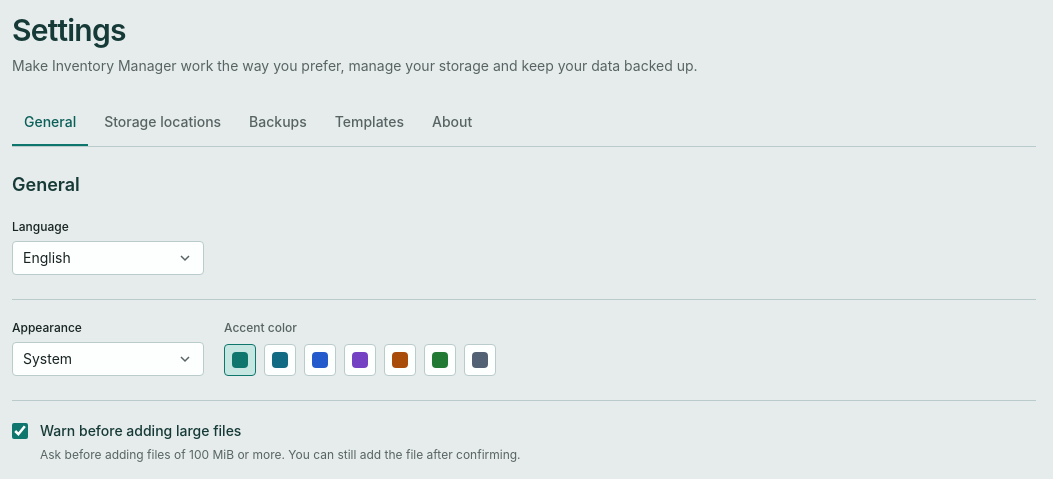
it: supports returning to system language without writing a resolved language back to the server
This screenshot has width=1053, height=479.
Click the dropdown named "Language". click: (108, 258)
box: left=12, top=241, right=204, bottom=275
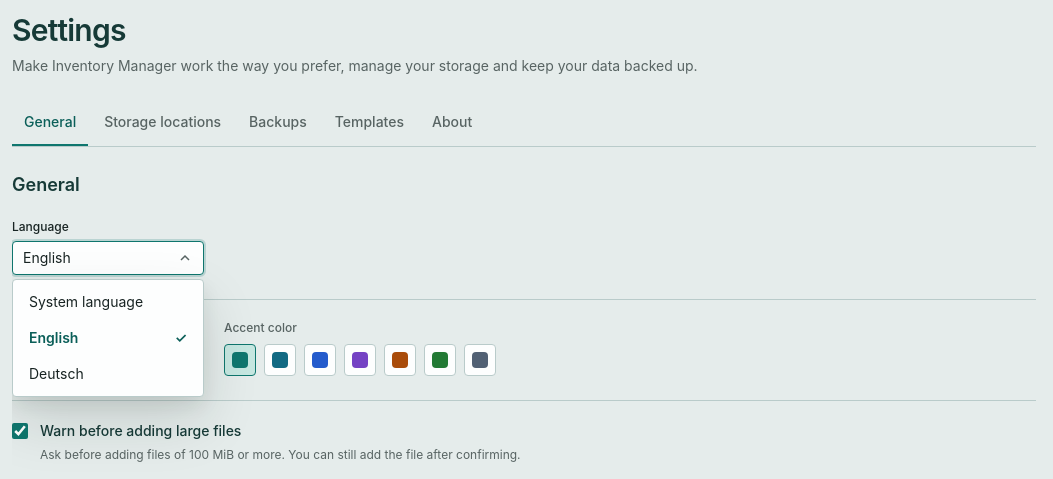
Click the option "System language". click: (108, 302)
box: left=17, top=284, right=199, bottom=320
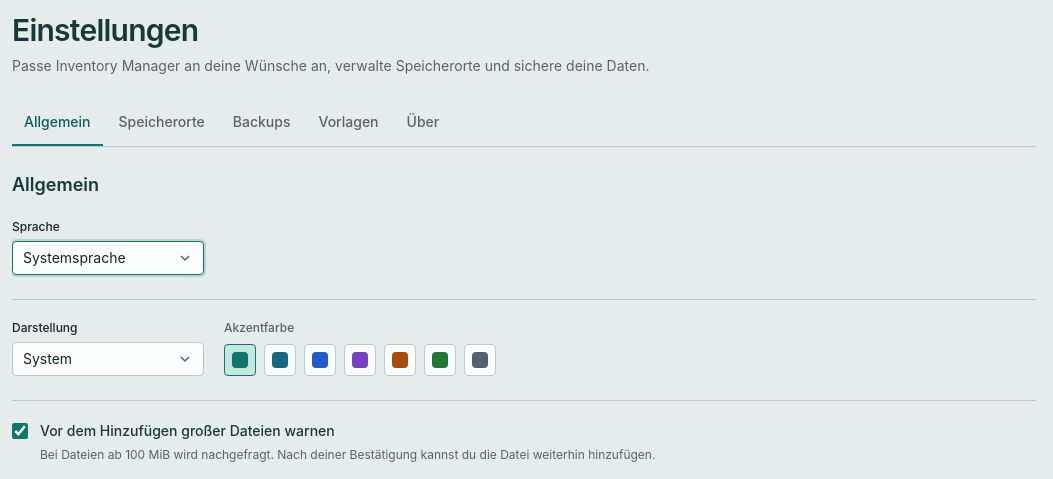
Check: the dropdown labelled "sprache" reads "Systemsprache", box left=12, top=241, right=204, bottom=275
